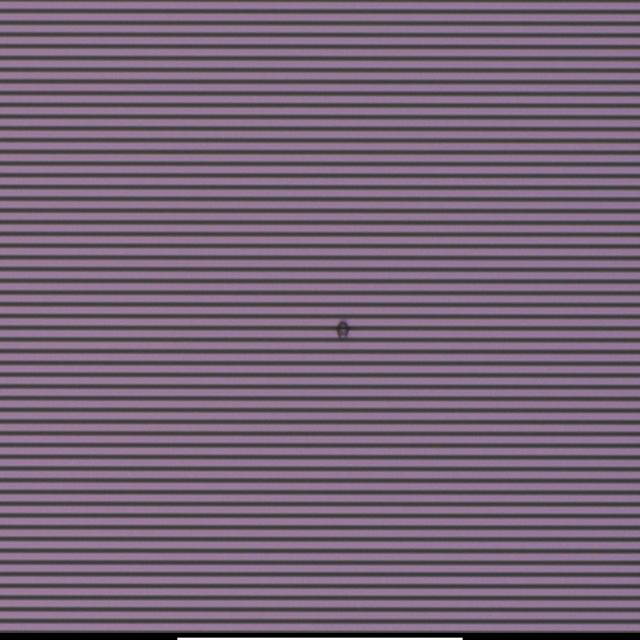03_intrusion: (329, 315, 359, 347)
